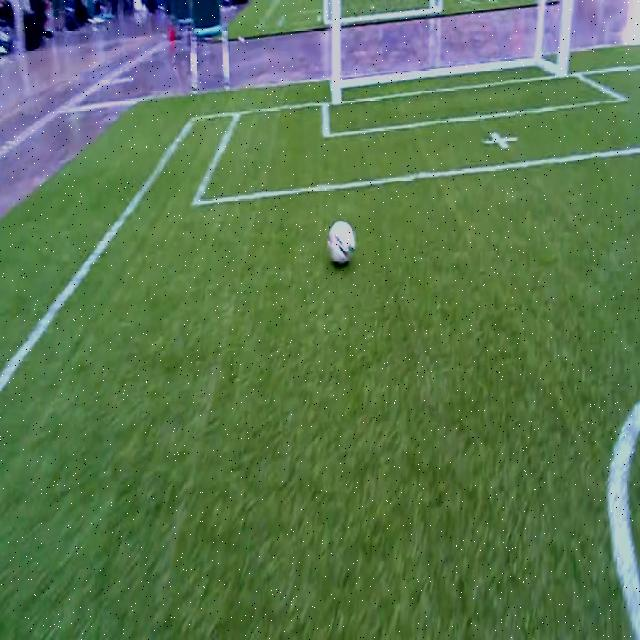ball: (327, 221, 356, 266)
